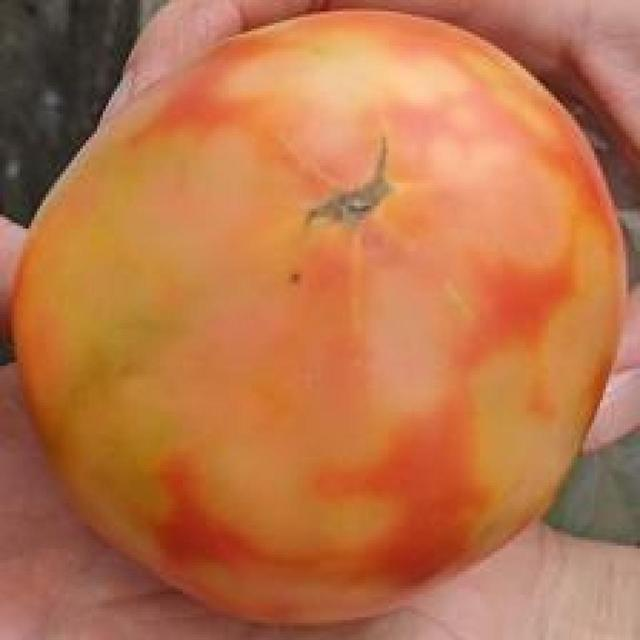Spotted wilt Virus Fruit: (9, 5, 420, 416)
